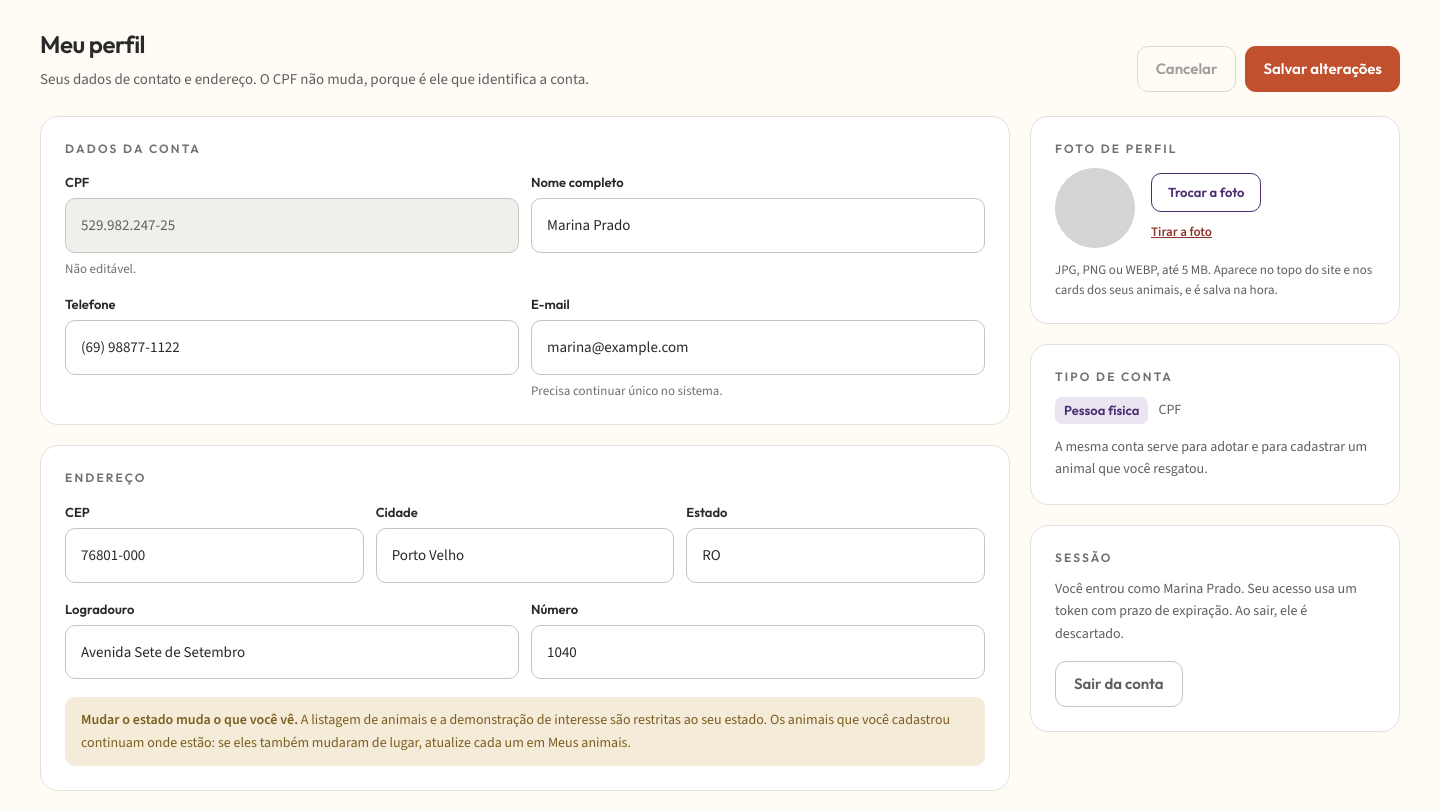
tirar a foto manda vazio e volta pras iniciais
Click the button "Tirar a foto".
click(1182, 232)  # box [1151, 220, 1212, 244]
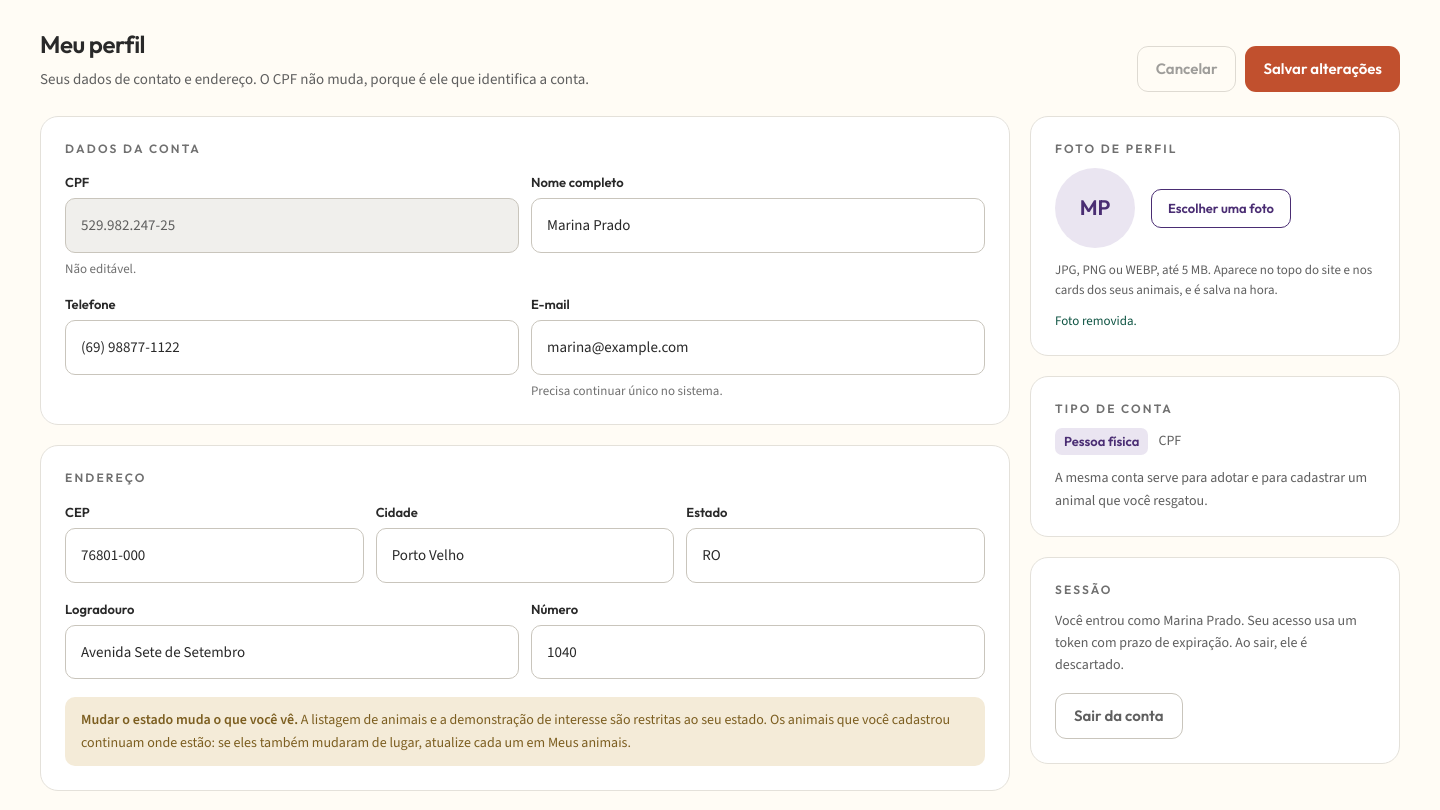
Expected: the text "Foto removida." is shown, [1055, 312, 1137, 329]
Expected: the picture is gone
Expected: the text "MP" is shown, [1055, 168, 1135, 248]
